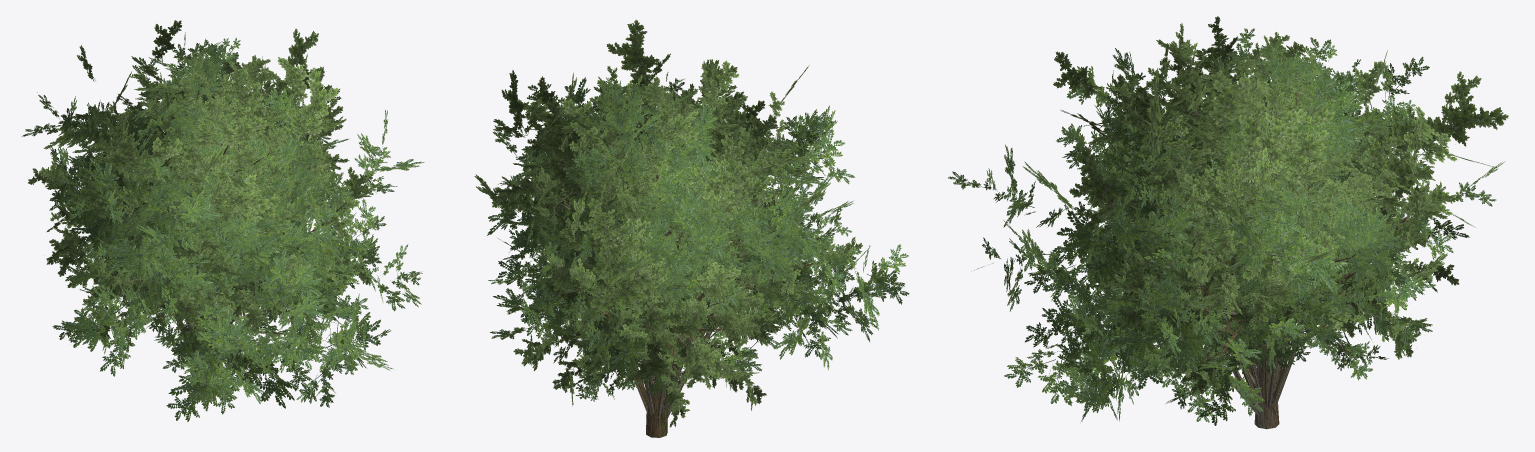
The model's file is garden-trees.glb.
3 renders of one model, left to right at view 1: azimuth 30°, elevation 25°; view 2: azimuth 150°, elevation 25°; view 3: azimuth 270°, elevation 25°, orthographic. The views are drawn at different scales.
Visible parts, largest first — view 1: thicket-leaves, thicket-leaves-mid, shrubs-leaves, spreading-leaves, mature-leaves, shrubs-leaves-mid, sapling-leaves, upright-leaves, mature-leaves-mid, spreading-leaves-mid, sapling-leaves-mid, distantAsh-leaves (+2 smaller); view 2: thicket-leaves, shrubs-leaves, spreading-leaves, thicket-leaves-mid, upright-leaves, mature-leaves, shrubs-leaves-mid, distantAsh-leaves, spreading-leaves-mid, sapling-leaves, mature-leaves-mid, upright-leaves-mid (+4 smaller); view 3: thicket-leaves, shrubs-leaves, thicket-leaves-mid, mature-leaves, spreading-leaves, shrubs-leaves-mid, spreading-leaves-mid, upright-leaves, mature-leaves-mid, sapling-leaves, distantAsh-leaves, sapling-leaves-mid (+5 smaller).
Part boxes in pixels (x1,y1,x2,y2): thicket-leaves: [49, 43, 422, 421]; thicket-leaves-mid: [49, 65, 424, 411]; shrubs-leaves: [48, 20, 352, 278]; spreading-leaves: [46, 54, 353, 341]; mature-leaves: [28, 90, 369, 336]; shrubs-leaves-mid: [37, 28, 338, 249]; sapling-leaves: [58, 51, 326, 280]; upright-leaves: [46, 38, 348, 354]; mature-leaves-mid: [39, 95, 372, 334]; spreading-leaves-mid: [56, 54, 359, 338]; sapling-leaves-mid: [83, 69, 321, 284]; distantAsh-leaves: [22, 32, 341, 299]; thicket-leaves: [488, 76, 909, 383]; shrubs-leaves: [481, 32, 826, 309]; spreading-leaves: [501, 66, 806, 427]; thicket-leaves-mid: [487, 77, 896, 393]; upright-leaves: [515, 76, 793, 401]; mature-leaves: [511, 59, 862, 388]; shrubs-leaves-mid: [474, 20, 810, 318]; distantAsh-leaves: [493, 86, 811, 334]; spreading-leaves-mid: [491, 76, 798, 416]; sapling-leaves: [490, 72, 809, 330]; mature-leaves-mid: [499, 61, 835, 389]; upright-leaves-mid: [519, 81, 795, 399]; thicket-leaves: [948, 51, 1469, 425]; shrubs-leaves: [1053, 16, 1493, 314]; thicket-leaves-mid: [1003, 48, 1450, 421]; mature-leaves: [1098, 23, 1459, 401]; spreading-leaves: [1077, 32, 1434, 355]; shrubs-leaves-mid: [1069, 36, 1508, 301]; spreading-leaves-mid: [1087, 35, 1428, 357]; upright-leaves: [1102, 47, 1434, 409]; mature-leaves-mid: [1094, 39, 1456, 389]; sapling-leaves: [1062, 28, 1395, 337]; distantAsh-leaves: [1102, 37, 1505, 319]; sapling-leaves-mid: [1056, 43, 1401, 318].
Bounding box in the file's own units: 1.13 × 1.04 × 1.34.
3 materials, 3 textured.
